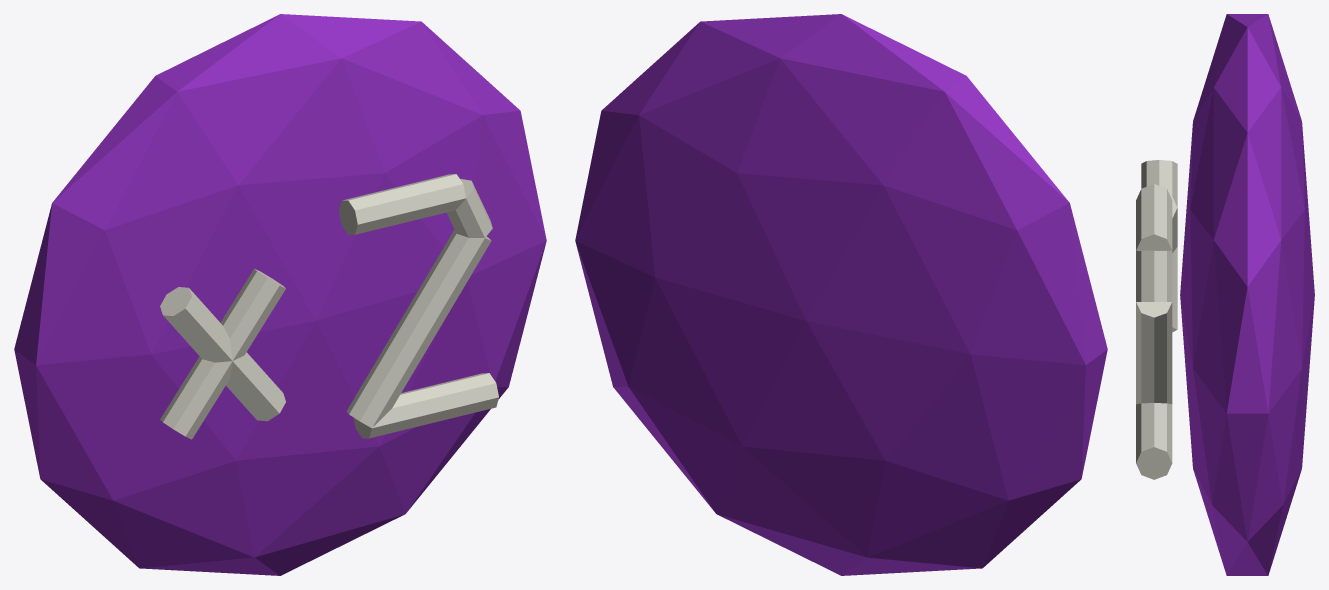
File: double.glb
3 views of the same model, side by side, from view 1: azimuth 30°, elevation 25°; view 2: azimuth 150°, elevation 25°; view 3: azimuth 270°, elevation 25° (orthographic). The views are drawn at different scales.
Parts seen in each view (by area): view 1: PickupMesh_double; view 2: PickupMesh_double; view 3: PickupMesh_double.
Boxes of the visible parts, <box> form: PickupMesh_double: <box>14,14,546,575</box>; PickupMesh_double: <box>575,14,1107,575</box>; PickupMesh_double: <box>1136,14,1314,575</box>.
Size of the model in its own units: 1.08 by 1.14 by 0.345.
